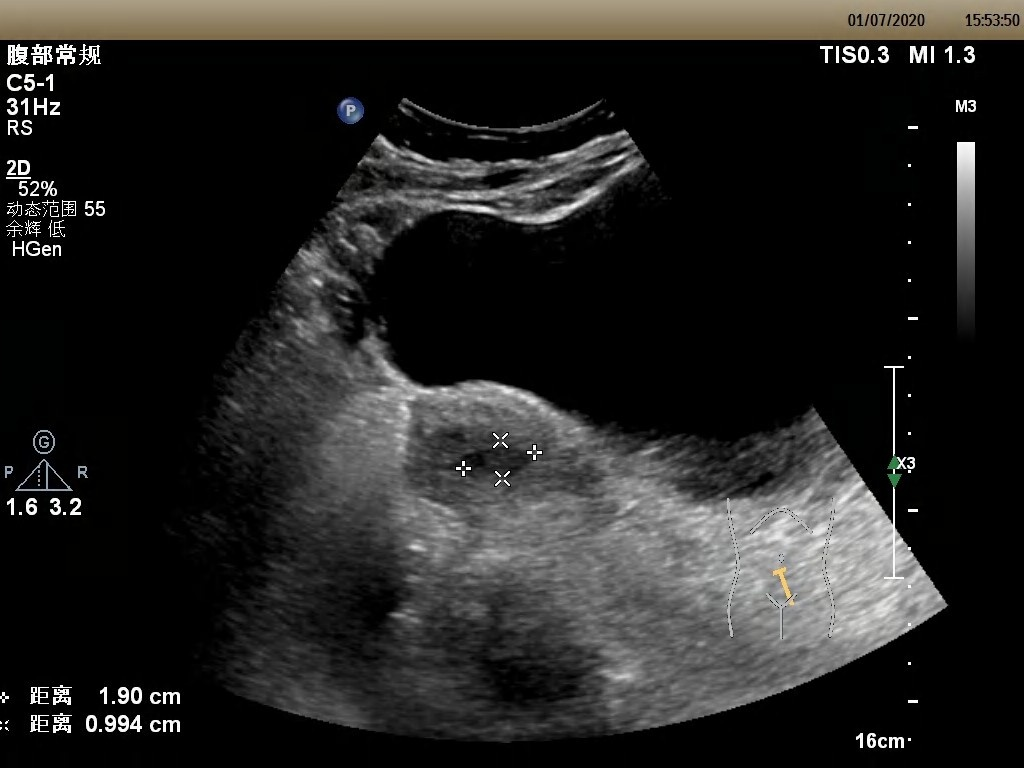肌瘤: (456, 445, 531, 477)
